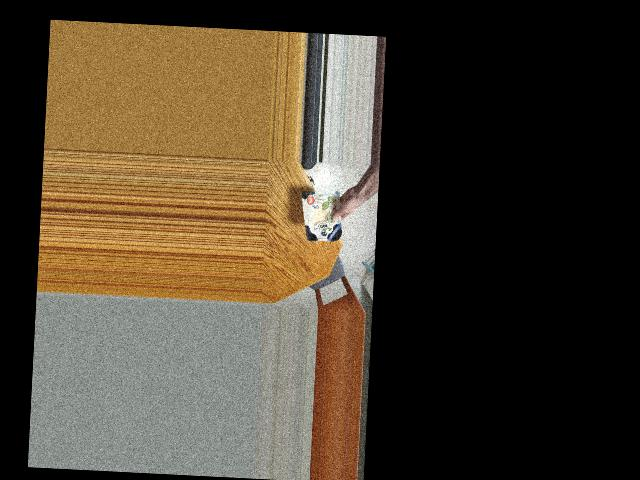cheese: (299, 184, 346, 249)
